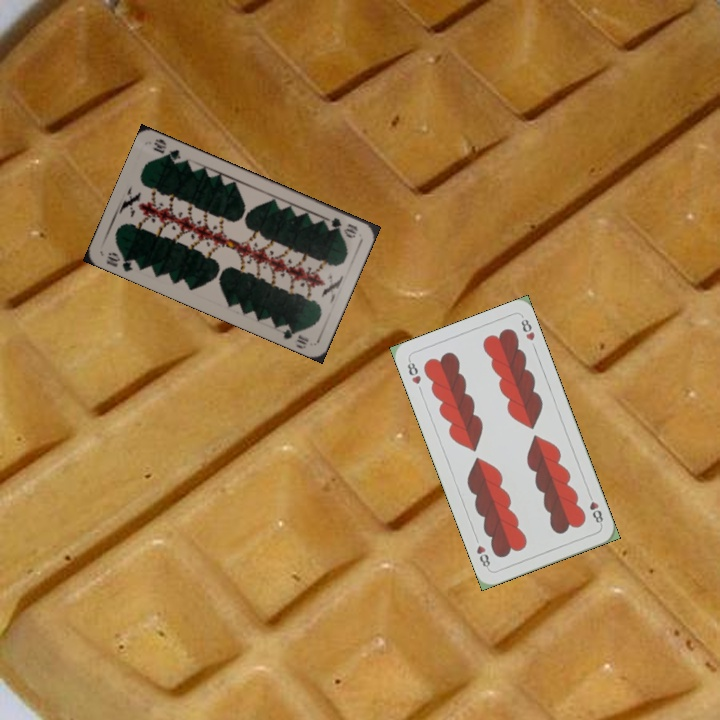G10: (322, 213, 361, 240), (102, 248, 141, 274)
H8: (584, 489, 606, 528), (403, 356, 424, 387)
